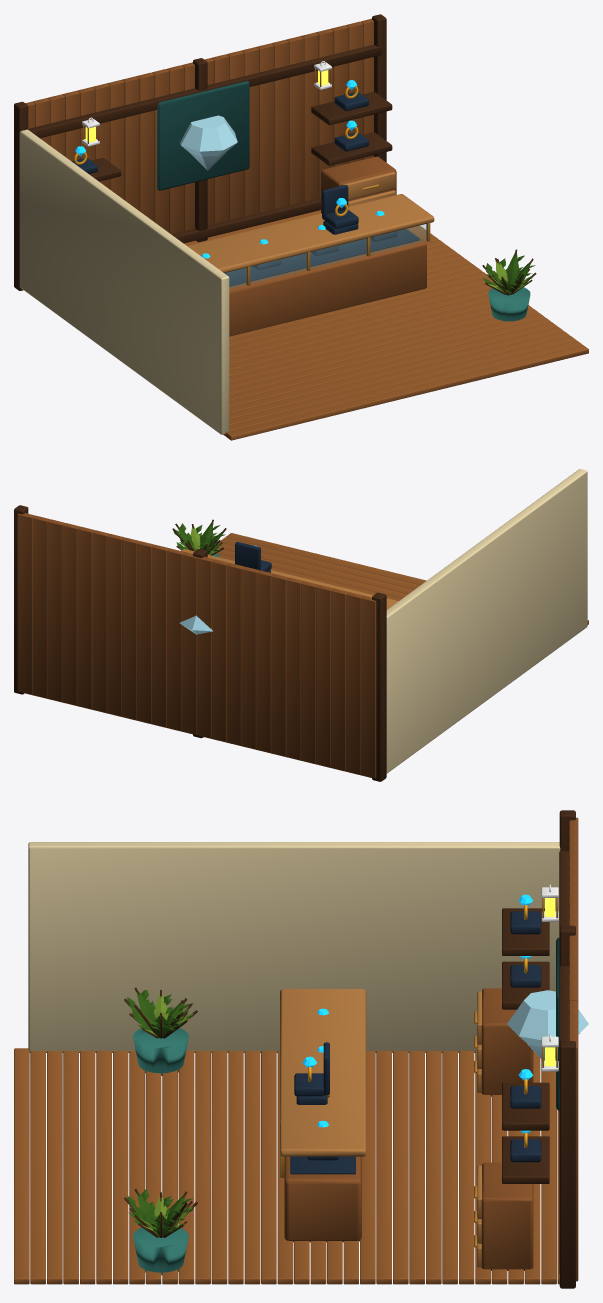
File: Boutique.fbx
3 renders of one model, top to bottom at view 1: azimuth 30°, elevation 25°; view 2: azimuth 150°, elevation 25°; view 3: azimuth 270°, elevation 25°, orthographic. The views are drawn at different scales.
Parts seen in each view (by area): view 1: Boutique_Env_Oak, Boutique_Env_Paper, Boutique_Env_Floor, Boutique_Env_DarkOak, Boutique_Env_LightOak, Boutique_Env_TealDark, Boutique_Env_Velvet, Boutique_Env_Glass, Boutique_Env_GemPale, Boutique_Env_Teal, Boutique_Env_Leaf, Boutique_Env_Brass; view 2: Boutique_Env_Oak, Boutique_Env_Paper, Boutique_Env_Floor, Boutique_Env_DarkOak, Boutique_Env_Leaf, Boutique_Env_Velvet, Boutique_Env_LightOak; view 3: Boutique_Env_Paper, Boutique_Env_Floor, Boutique_Env_Oak, Boutique_Env_LightOak, Boutique_Env_DarkOak, Boutique_Env_Velvet, Boutique_Env_Teal, Boutique_Env_Leaf, Boutique_Env_GemPale, Boutique_Env_LeafLight, Boutique_Env_Iron, Boutique_Env_TealDark.
Boxes of the visible parts, box(x1,y1,x2,y2) form: Boutique_Env_Oak: box(25, 18, 426, 336); Boutique_Env_Paper: box(19, 129, 229, 434); Boutique_Env_Floor: box(184, 210, 588, 440); Boutique_Env_DarkOak: box(14, 14, 536, 295); Boutique_Env_LightOak: box(187, 171, 434, 272); Boutique_Env_TealDark: box(157, 81, 249, 190); Boutique_Env_Velvet: box(72, 92, 419, 286); Boutique_Env_Glass: box(225, 224, 426, 288); Boutique_Env_GemPale: box(180, 115, 237, 170); Boutique_Env_Teal: box(488, 287, 530, 321); Boutique_Env_Leaf: box(482, 253, 535, 294); Boutique_Env_Brass: box(82, 68, 430, 285); Boutique_Env_Oak: box(17, 513, 376, 778); Boutique_Env_Paper: box(386, 469, 587, 773); Boutique_Env_Floor: box(24, 533, 588, 777); Boutique_Env_DarkOak: box(14, 505, 386, 781); Boutique_Env_Leaf: box(173, 522, 225, 554); Boutique_Env_Velvet: box(235, 542, 271, 572); Boutique_Env_LightOak: box(181, 549, 398, 609); Boutique_Env_Paper: box(28, 842, 560, 1052); Boutique_Env_Floor: box(14, 1048, 559, 1284); Boutique_Env_Oak: box(284, 817, 578, 1281); Boutique_Env_LightOak: box(280, 989, 481, 1267); Boutique_Env_DarkOak: box(124, 810, 575, 1288); Boutique_Env_Velvet: box(290, 911, 541, 1174); Boutique_Env_Teal: box(133, 1028, 188, 1275); Boutique_Env_Leaf: box(127, 990, 193, 1237); Boutique_Env_GemPale: box(507, 990, 588, 1060); Boutique_Env_LeafLight: box(139, 993, 194, 1237); Boutique_Env_Iron: box(541, 884, 558, 1071); Boutique_Env_TealDark: box(556, 938, 559, 1110).
Bounding box in the file's own units: 7.6 × 3.64 × 7.8.
